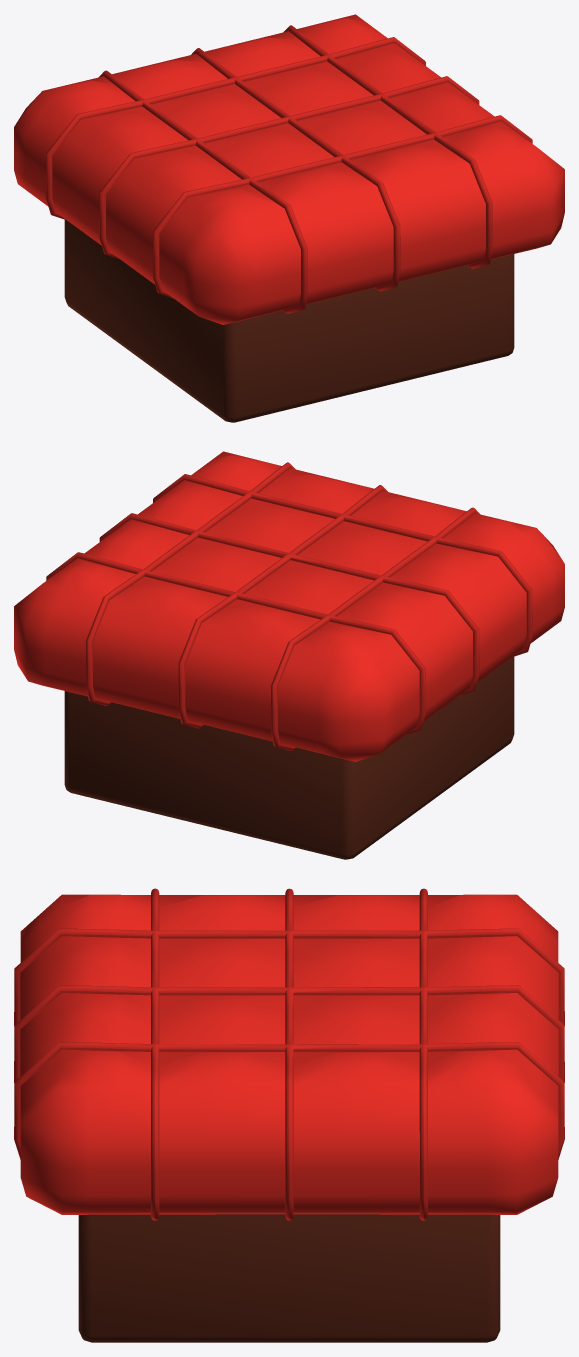
File: cushion_3.fbx
The picture shows the model from 3 angles, top to bottom: view 1: azimuth 30°, elevation 25°; view 2: azimuth 150°, elevation 25°; view 3: azimuth 270°, elevation 25°; orthographic projection. The views are drawn at different scales.
Parts seen in each view (by area): view 1: cushion 3; view 2: cushion 3; view 3: cushion 3.
Boxes of the visible parts, bbox=[...] form: cushion 3: bbox=[14, 14, 564, 422]; cushion 3: bbox=[14, 451, 564, 859]; cushion 3: bbox=[14, 888, 564, 1342].
Size of the model in its own units: 6.13 by 3.43 by 6.13.
